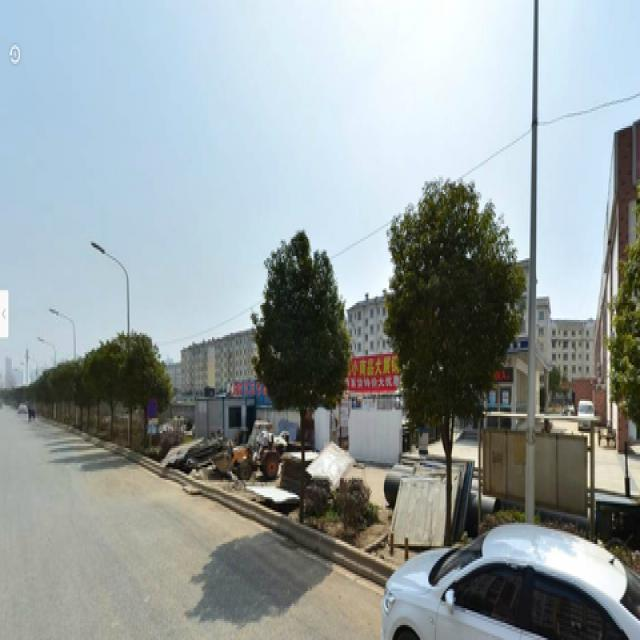cinn: (401, 194, 479, 538), (257, 248, 320, 531)
